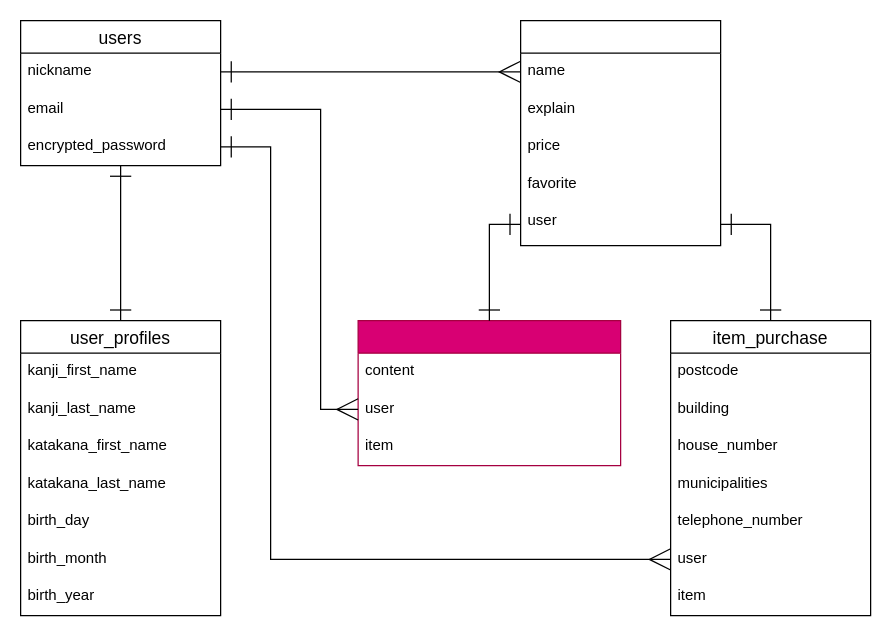
Image size: 891x636. Some labels were removed from this diagram. The shapes that lost their labels are listed below. From the top down, each one's box as (x1, y1, x2, y2) in pixels, then its label:
(519, 19, 721, 246): items
(357, 319, 621, 466): Comments(no implementation)
